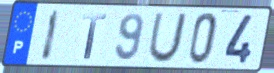0: (188, 11, 222, 66)
4: (222, 13, 255, 66)
9: (113, 12, 146, 62)
I: (39, 9, 62, 64)
T: (80, 13, 108, 61)
U: (146, 12, 190, 65)
